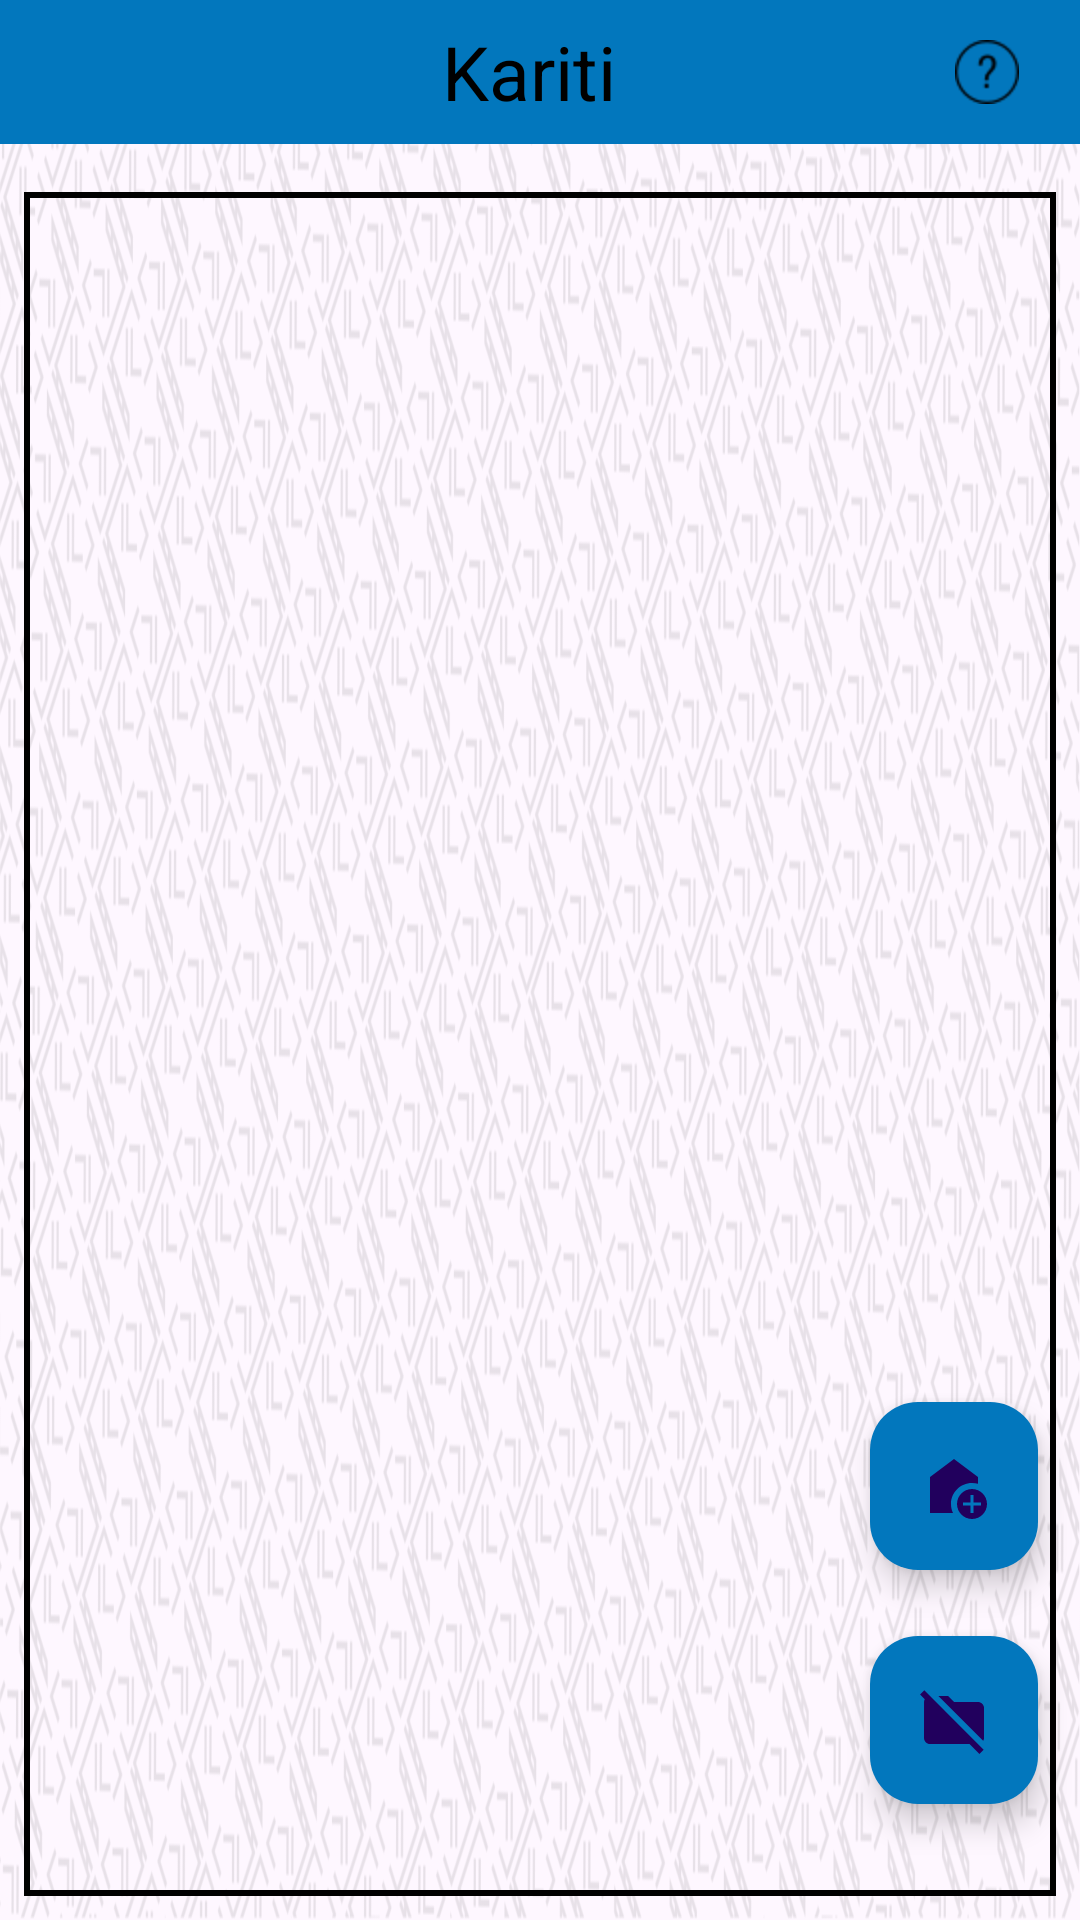

Named icons in this screenshot (1080w x 1920h) and their centers, (x,y):
Ajuda: (987,72)
Escolas arquivadas: (954,1720)
Mais Escolas: (954,1486)
